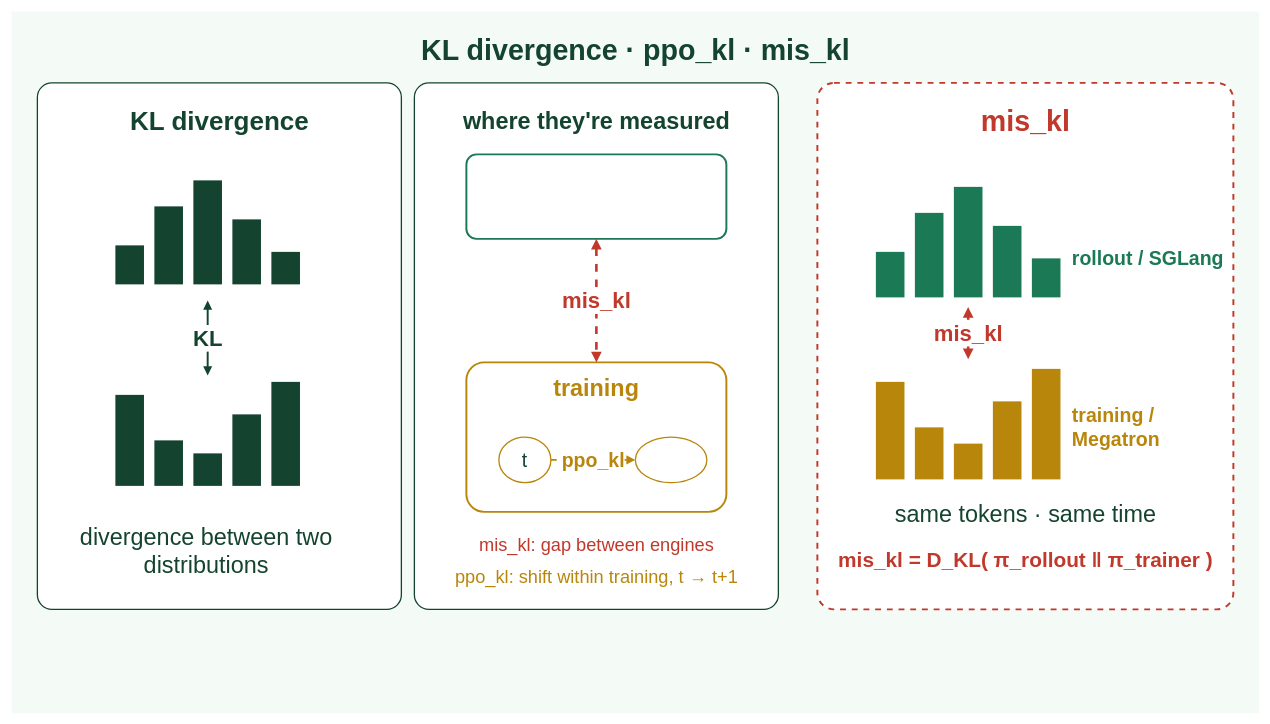
Some shapes in this 1270 by 724 pixel diagram are drawn without their labels. Each missing label, with the centre of its shape:
rollout: [596,196]
t+1: [670,459]
